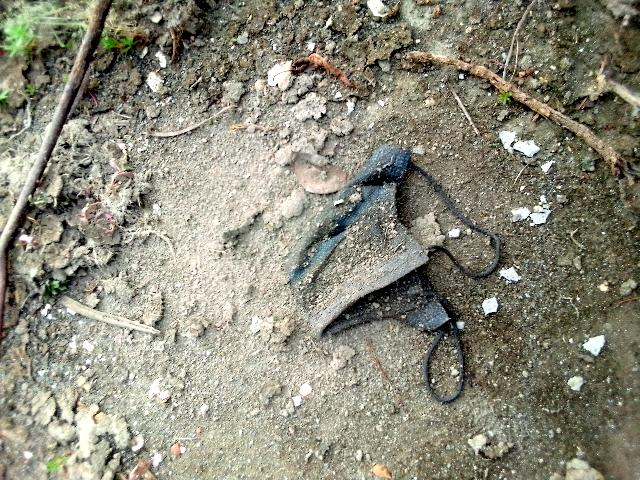mask: (287, 170, 421, 318)
